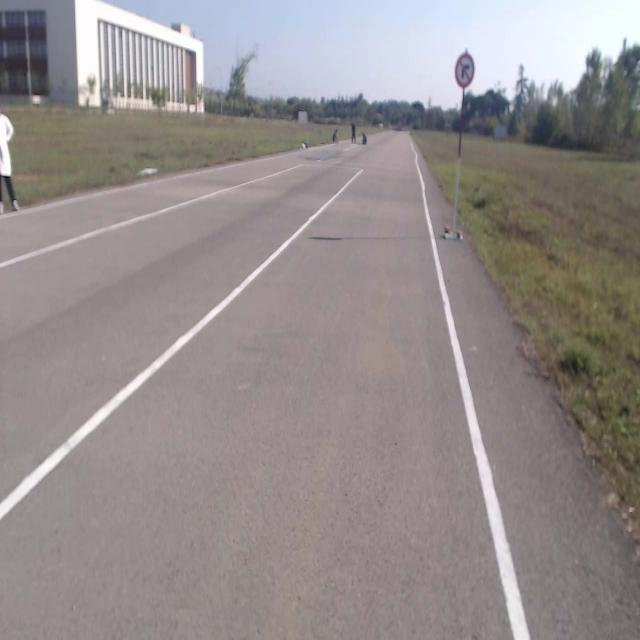sagadonulmez: (456, 54, 474, 86)
